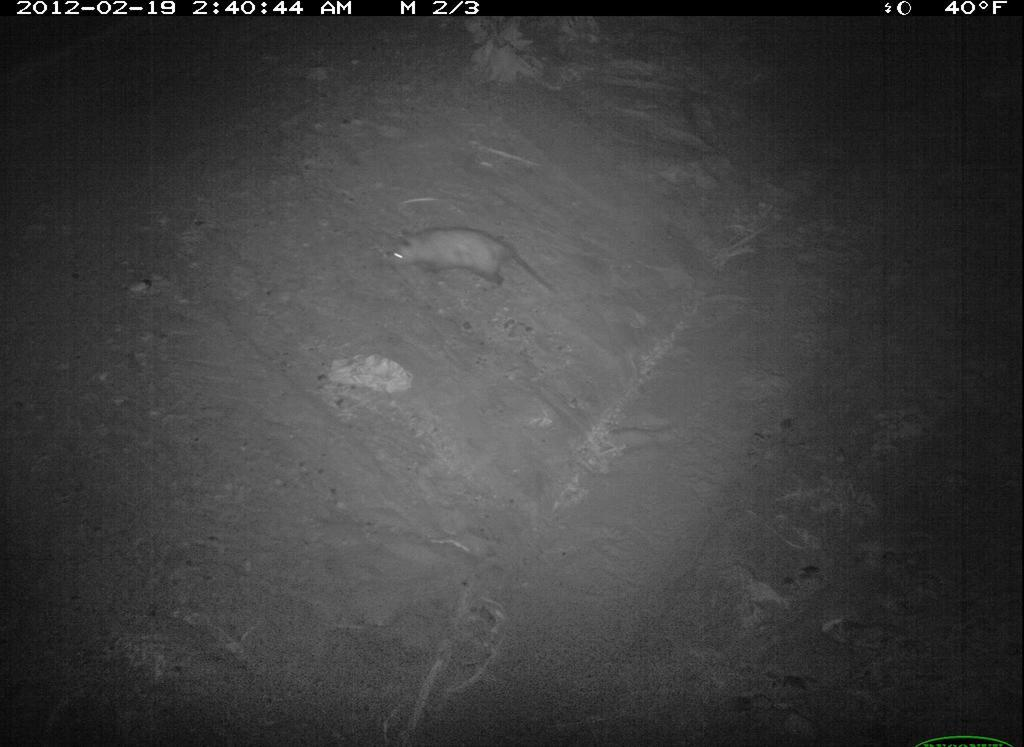opossum: (377, 227, 569, 308)
